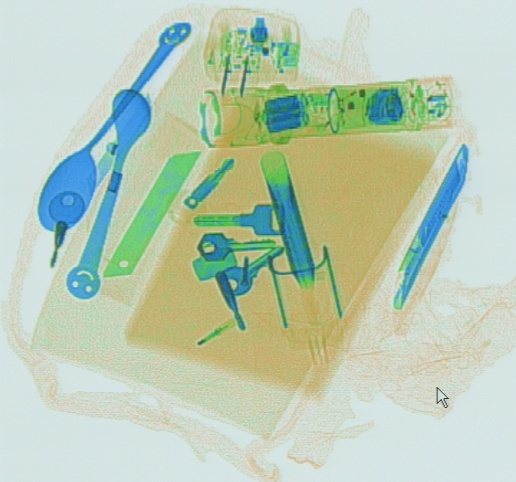knife: (389, 137, 476, 318), (101, 150, 201, 277), (85, 91, 151, 197)
